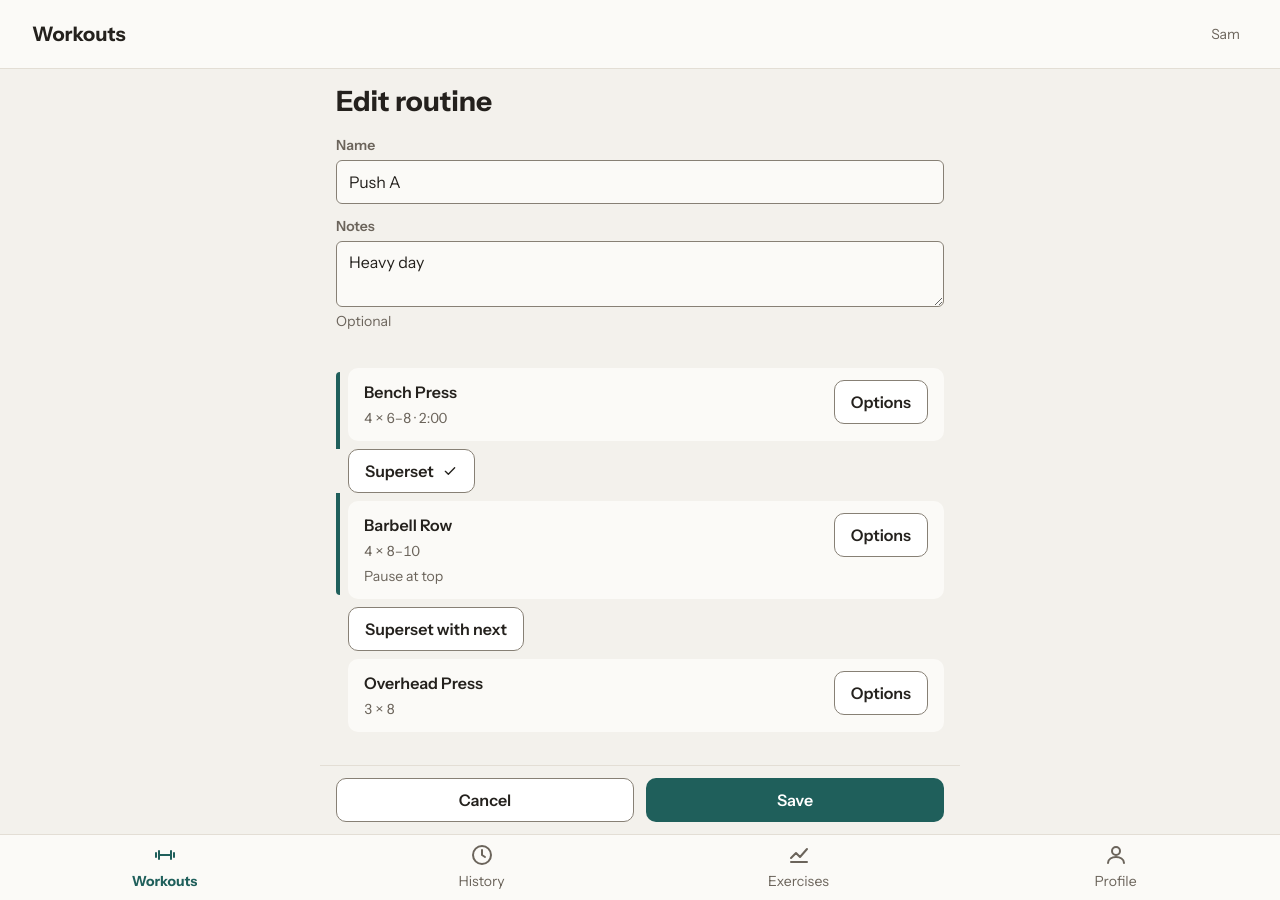
Scenario: 10.0 AC33 / AC17 — save failures keep the draft › 404 on edit → gone notice, Save disabled
The width and height of the screenshot is (1280, 900).
Type "!" into the text box labelled "Notes" at (640, 274), box [336, 241, 944, 307]
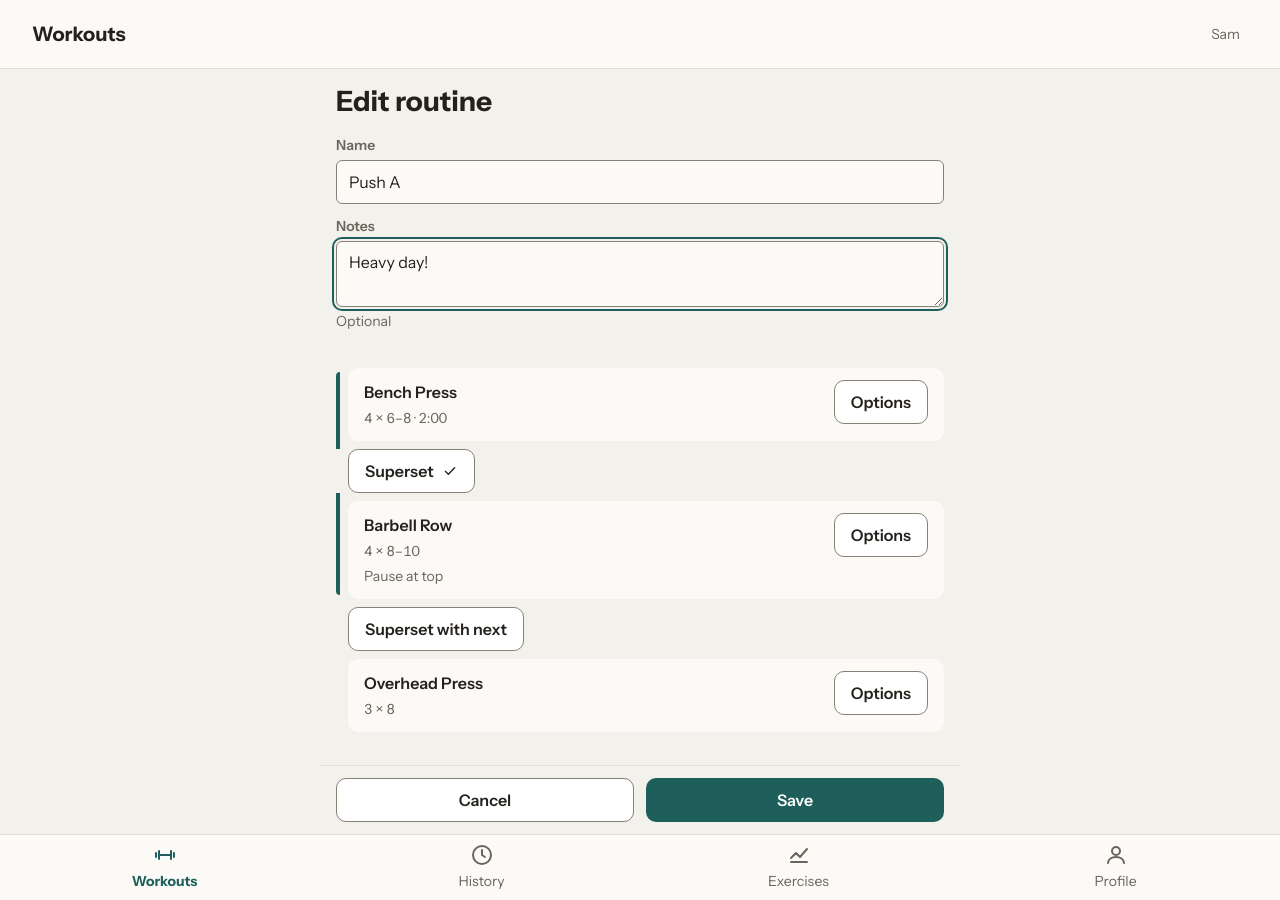
Click the button "Save" at (795, 800), box [646, 778, 944, 822]
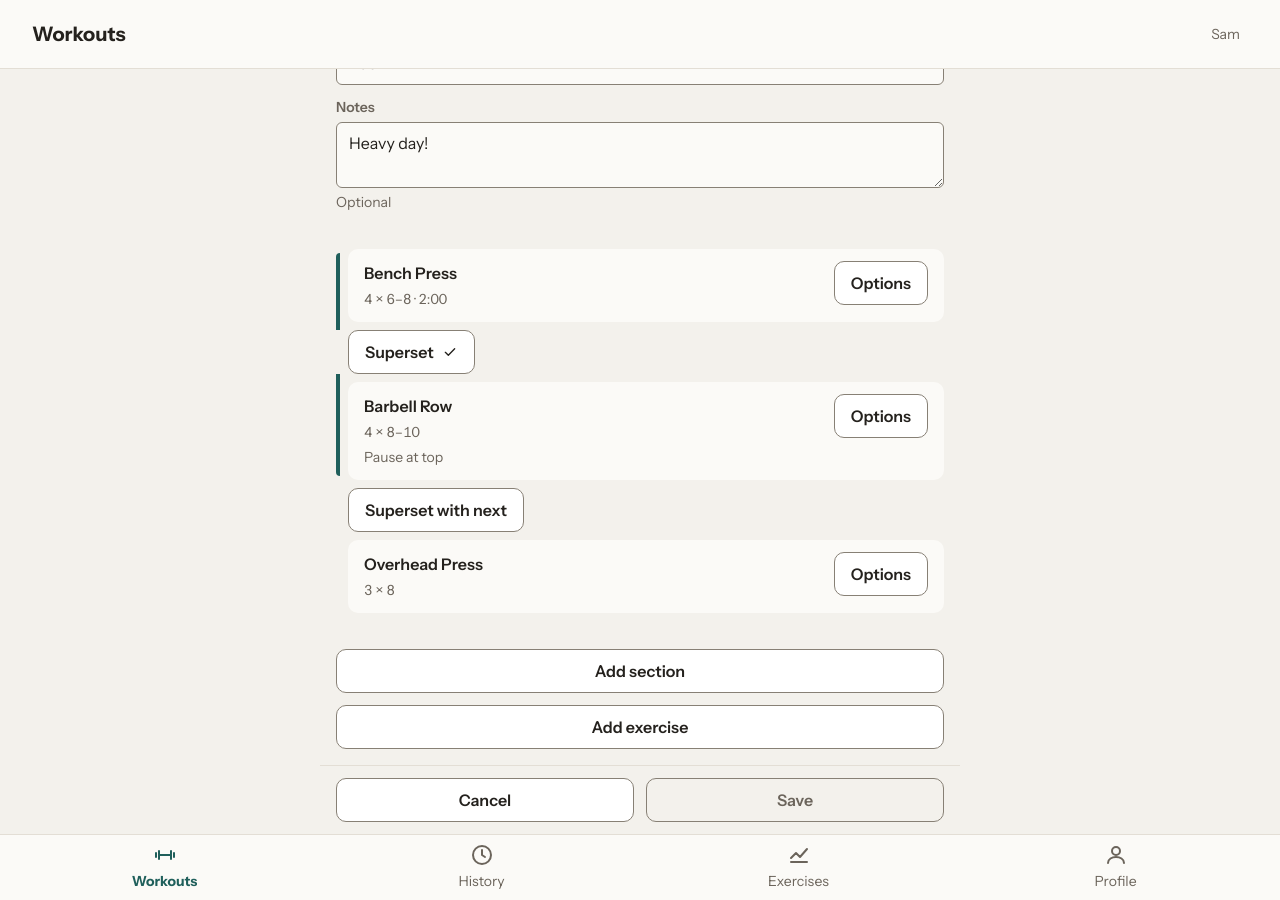
Expected: the button "Save" is disabled, [646, 778, 944, 822]
